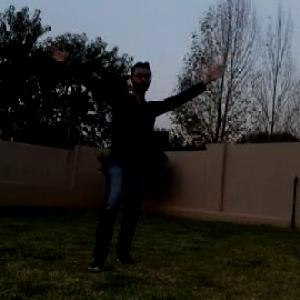takeoff: (41, 30, 226, 277)
